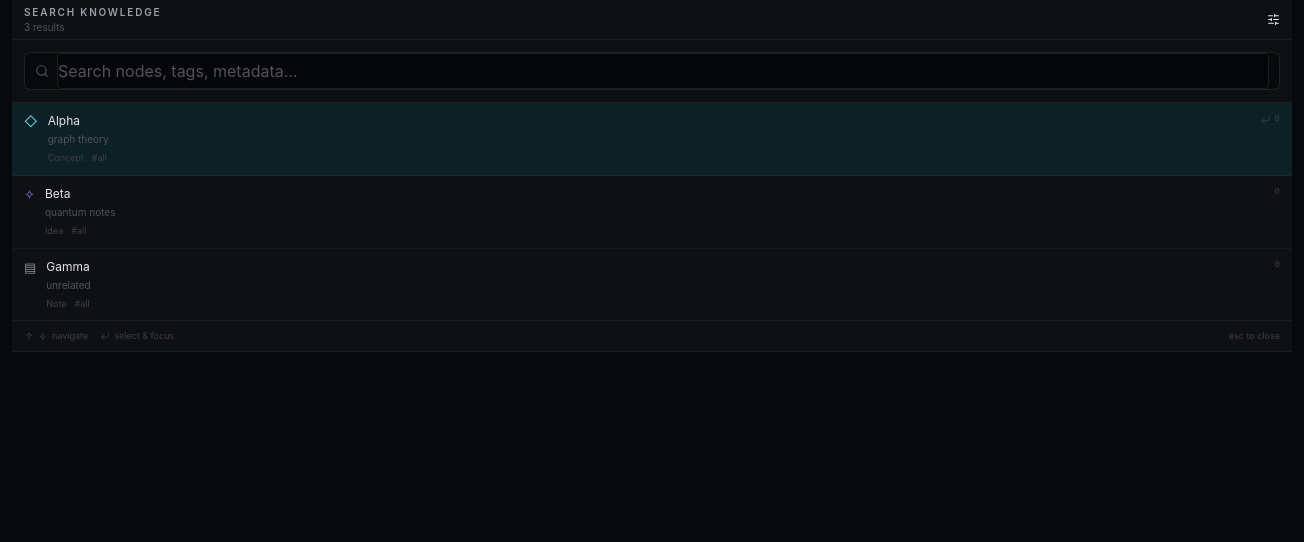
SearchPanel › narrows results by node type when filters are open
The width and height of the screenshot is (1304, 542).
Click the button named "Toggle search filters": coordinates (1274, 20) [1267,13,1280,26]
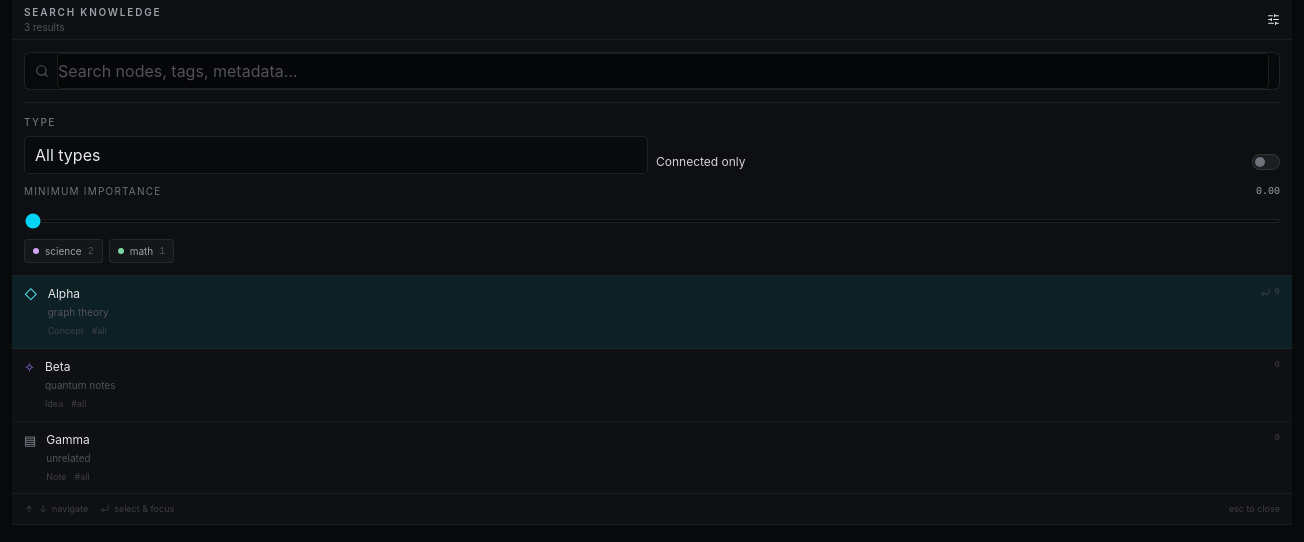
Select "Idea" in the dropdown labelled "Type": coordinates (336, 155) [24,136,648,174]
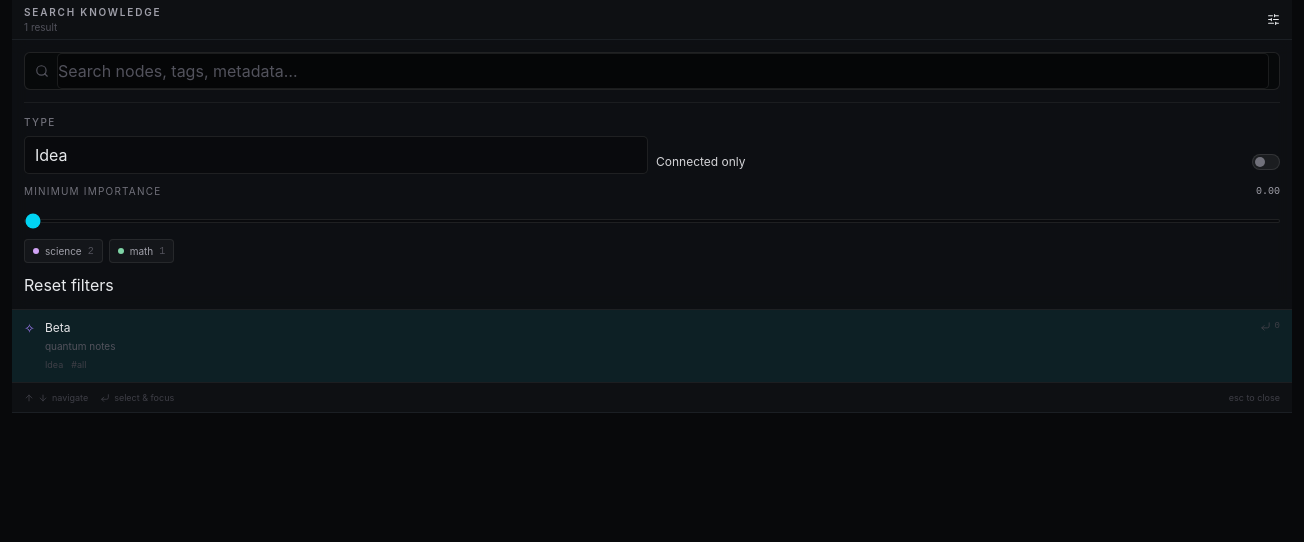
Expected: the text "Beta" is shown, [45,320,70,335]
Now the number of buttons with test id "search-result" is 1, box [12,310,1292,382]
Now the button "Alpha" is gone
